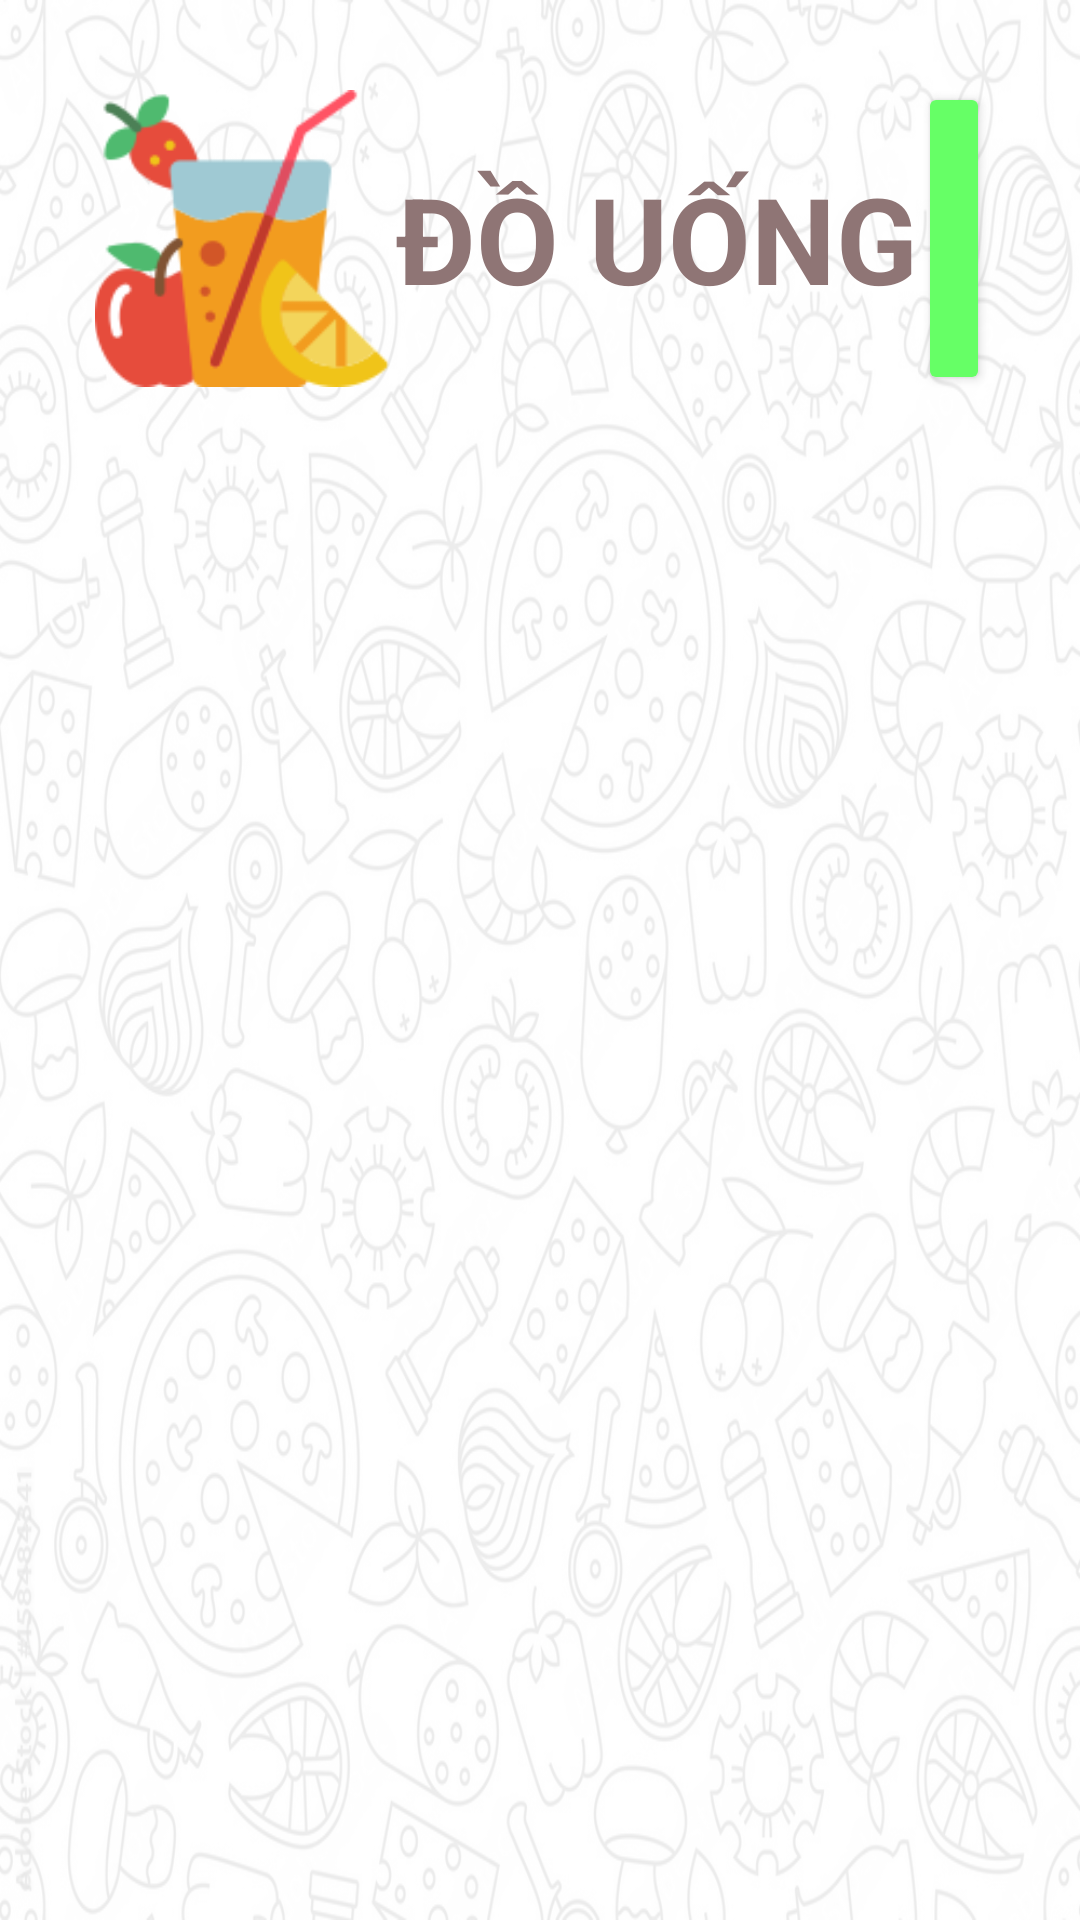

Named icons in this screenshot (1080*1920) and their centers, point (x, y):
drink: point (242, 238)
